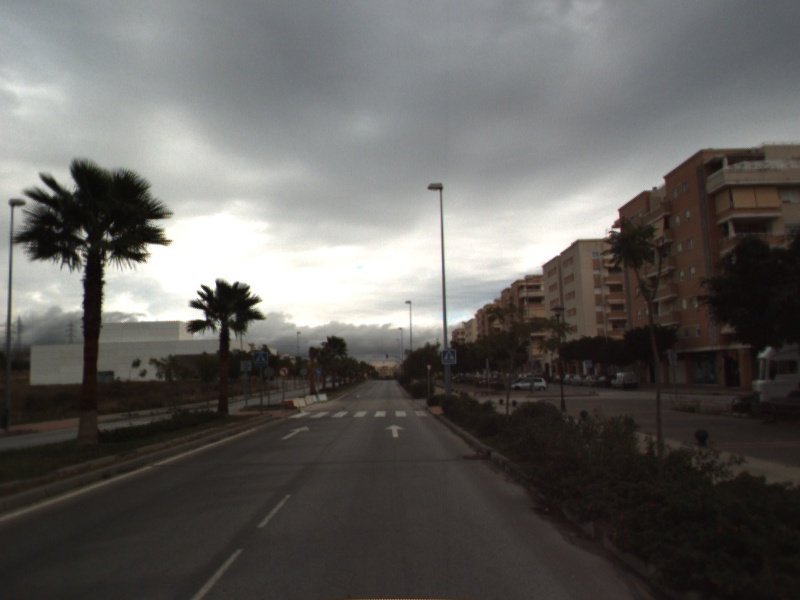STRAIGHT: (280, 424, 311, 441), (383, 422, 406, 439)
